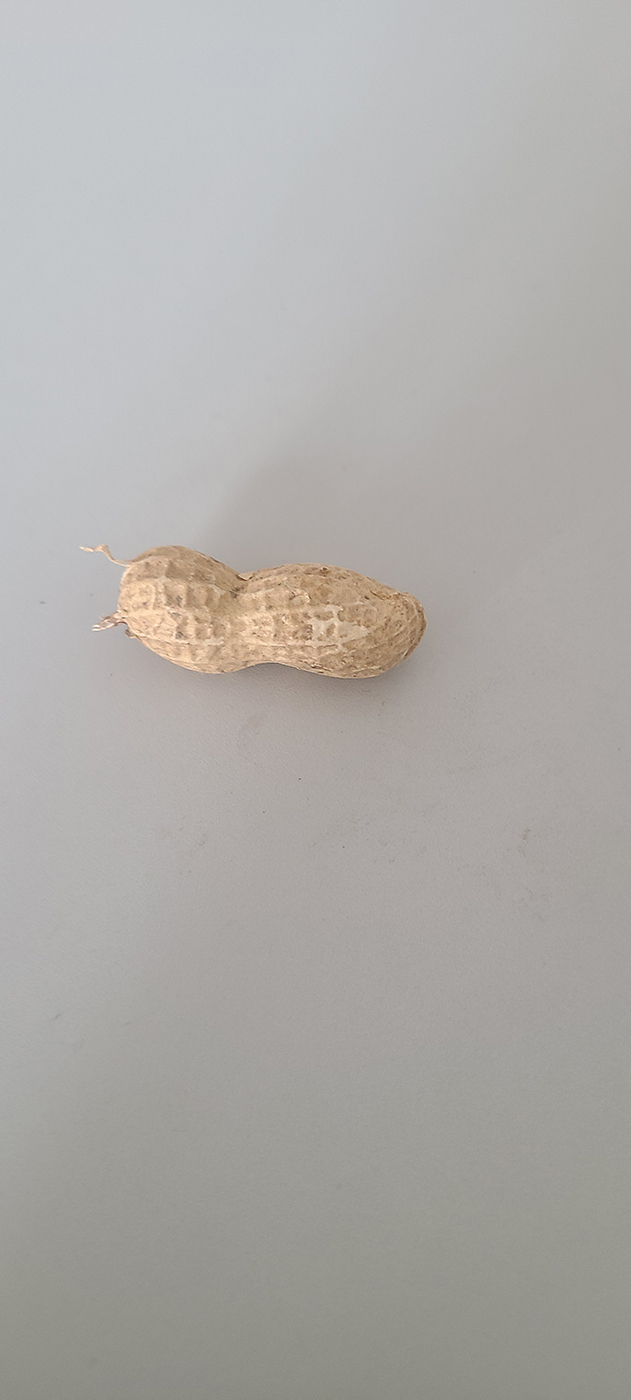h: (115, 547, 426, 682)
